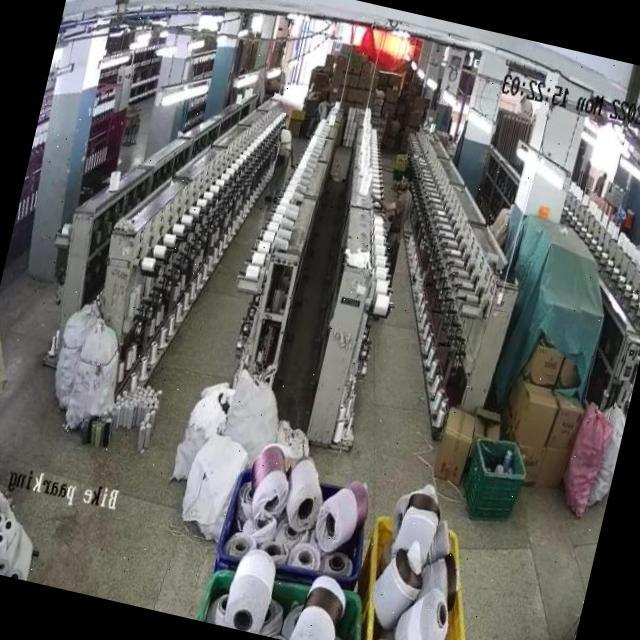person: (381, 162, 416, 258), (260, 119, 293, 200)
